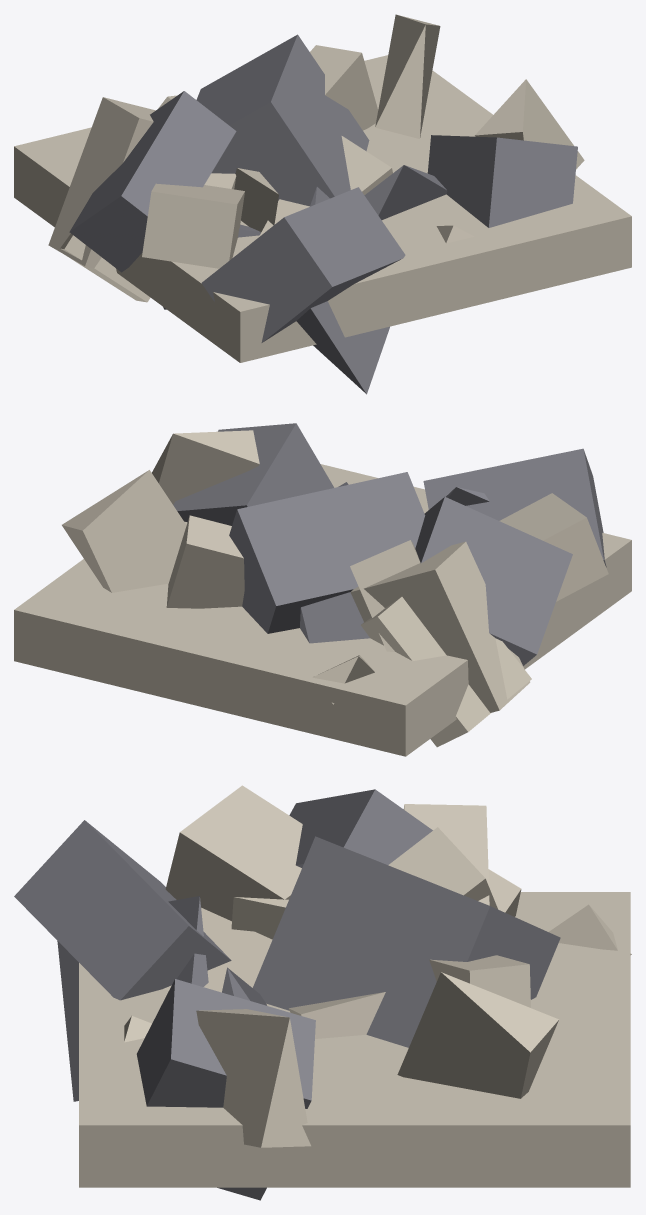
Rendered from alien_rubble.glb.
3 views of the same model, one above another, from view 1: azimuth 30°, elevation 25°; view 2: azimuth 150°, elevation 25°; view 3: azimuth 270°, elevation 25° (orthographic). The views are drawn at different scales.
Visible parts, largest first — view 1: alien_rubble; view 2: alien_rubble; view 3: alien_rubble.
Boxes of the visible parts, bbox=[...] form: alien_rubble: bbox=[14, 14, 631, 394]; alien_rubble: bbox=[14, 423, 631, 756]; alien_rubble: bbox=[14, 785, 631, 1200].
Size of the model in its own units: 3.73 by 1.78 by 3.58.
